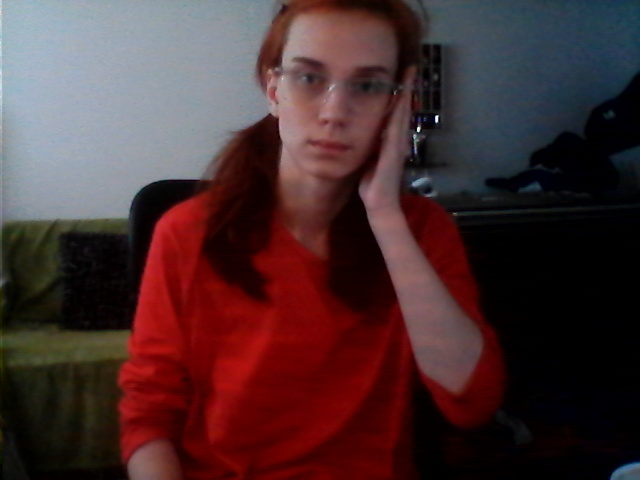lezat: (360, 66, 430, 232)
